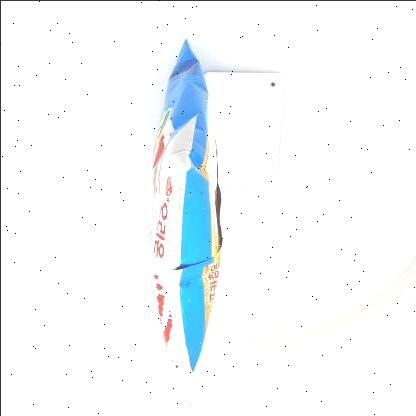Others: (107, 28, 254, 416)
